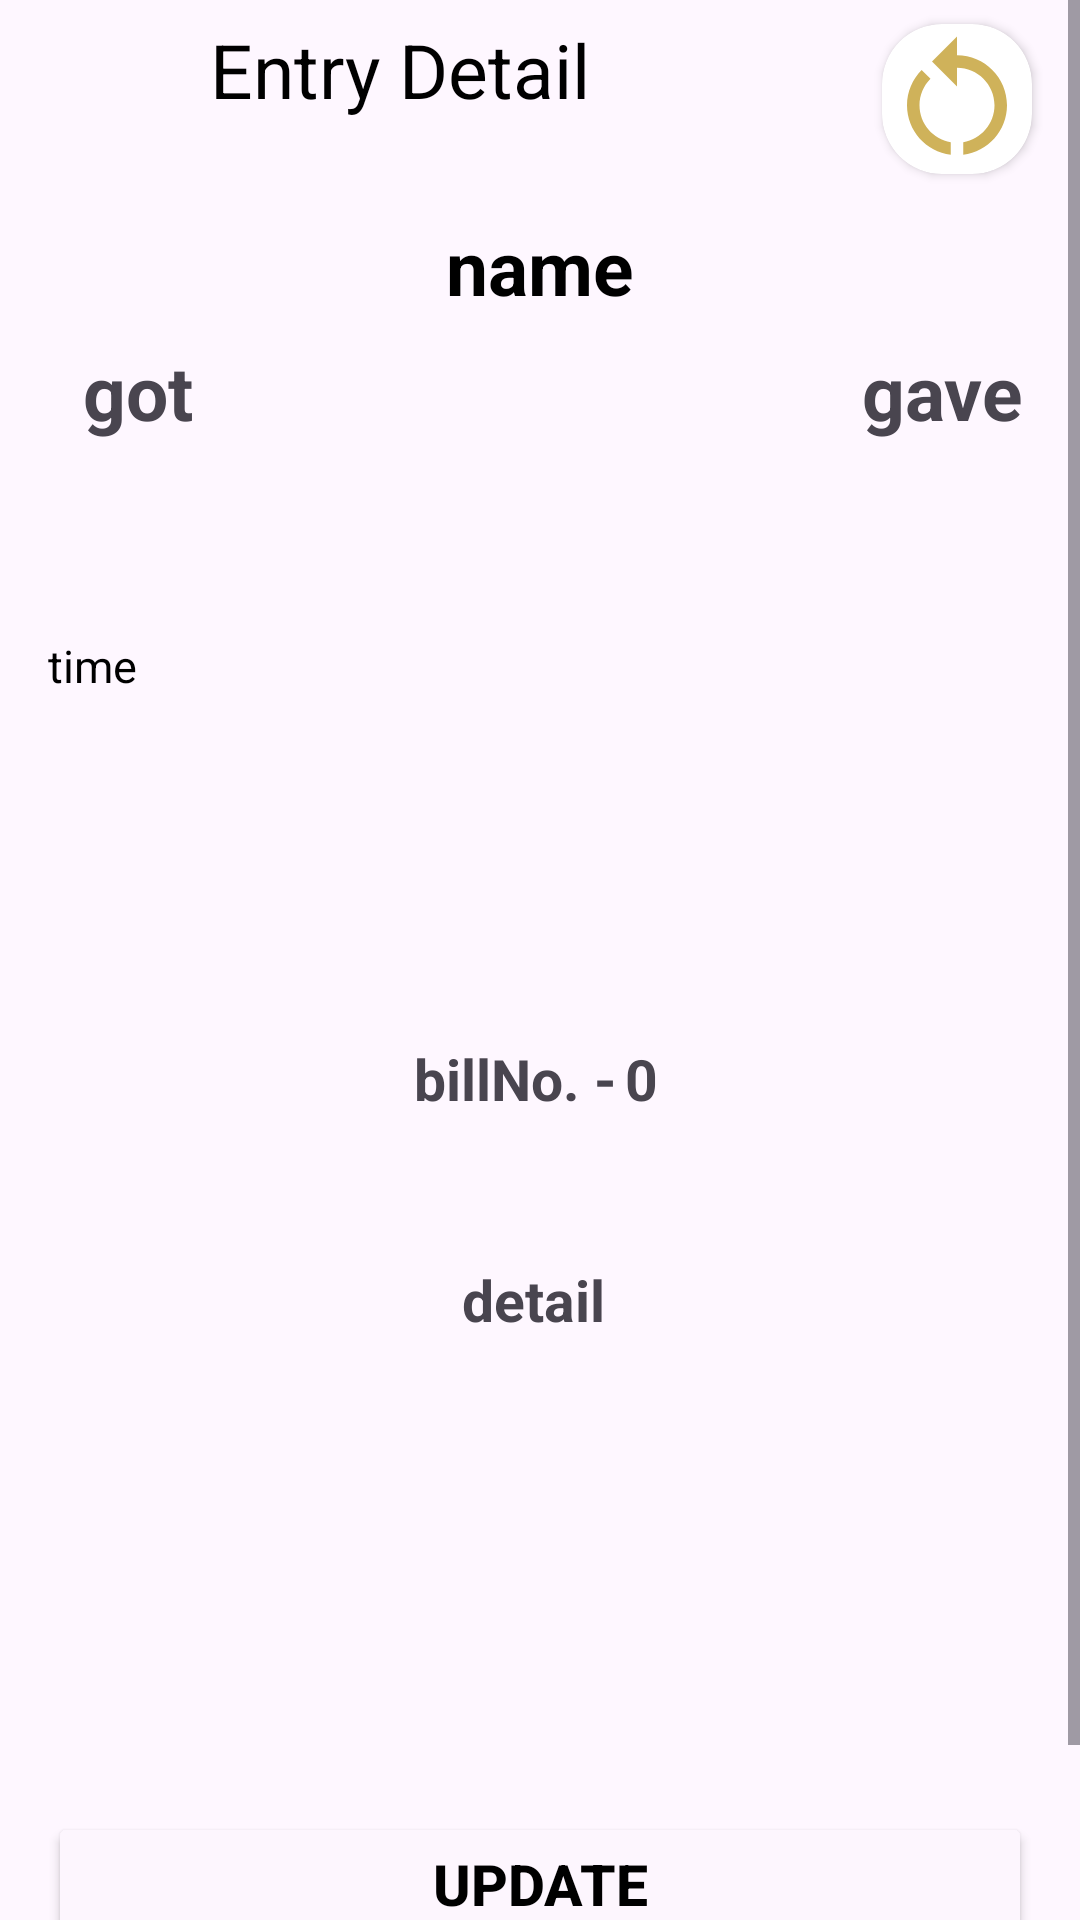

Screen size 1080 × 1920. Icon name, then its box in pixels as bbox=(x1, y1, x2, y2):
restart: bbox=(882, 24, 1032, 174)
